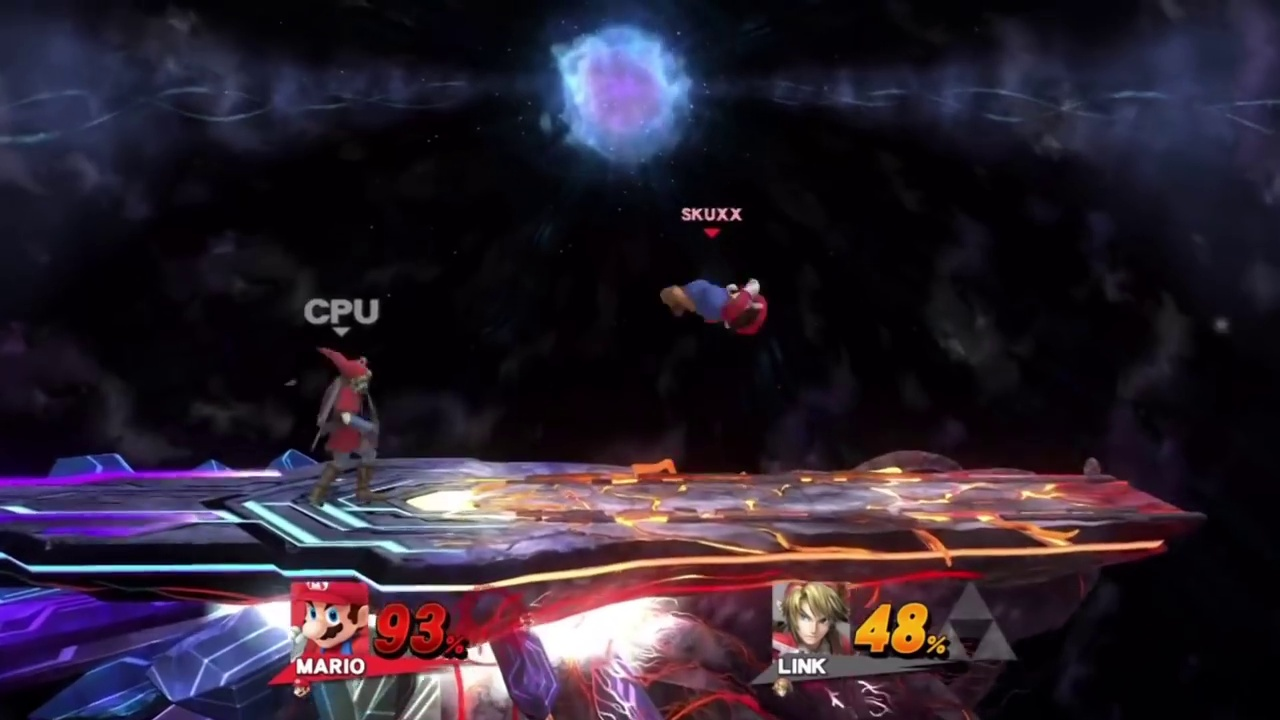Mario: (654, 276, 767, 340)
